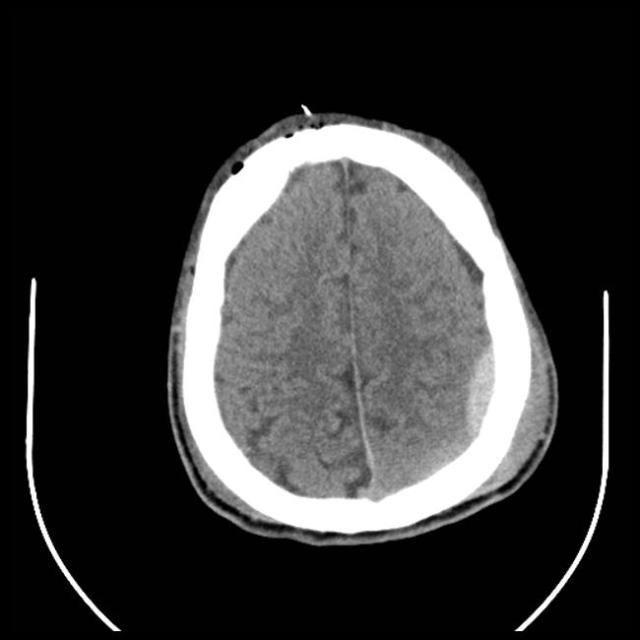lesion: (162, 104, 560, 546)
